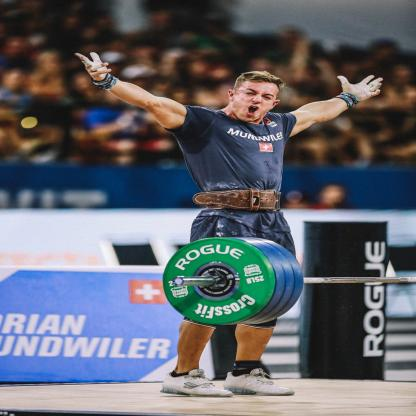barbell: (162, 239, 272, 327)
